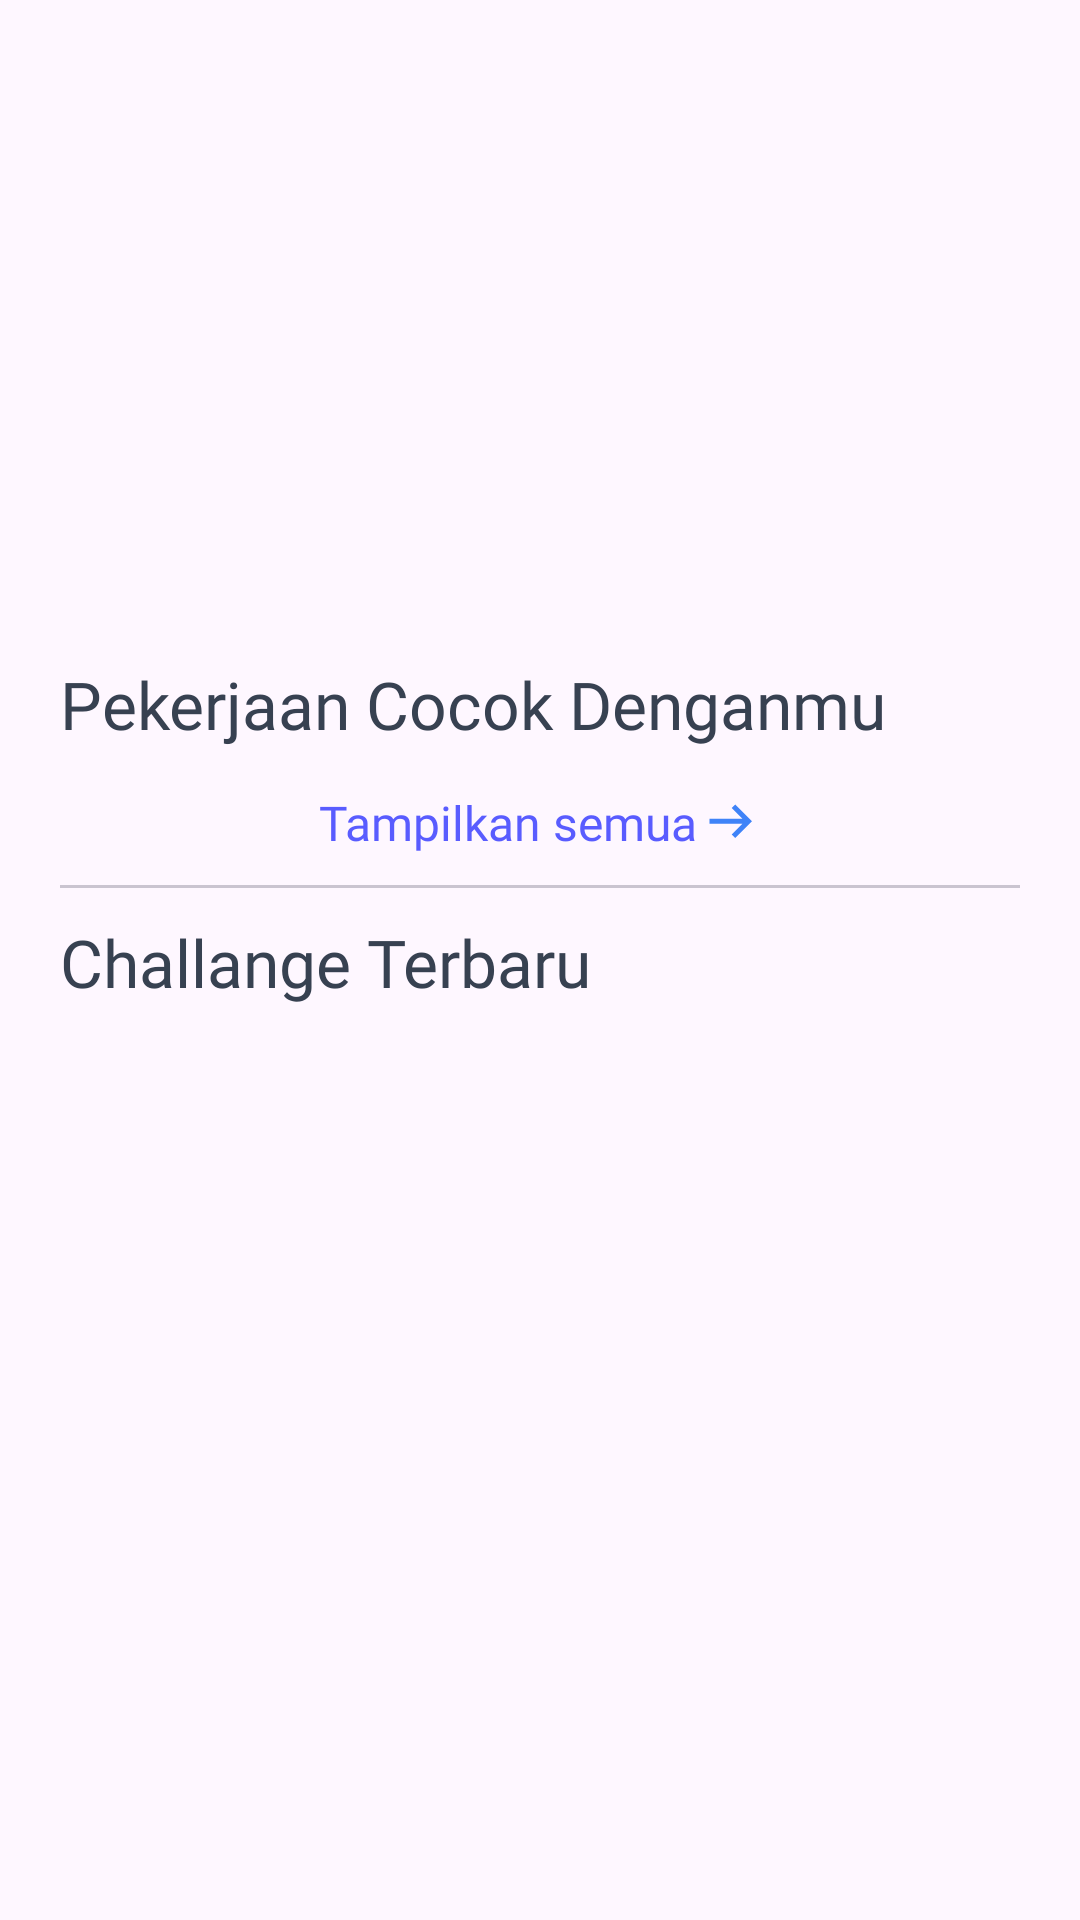

Screen size 1080px x 1920px. Icon name, then its center in pixels as (x,y):
arrow right: (730,821)
